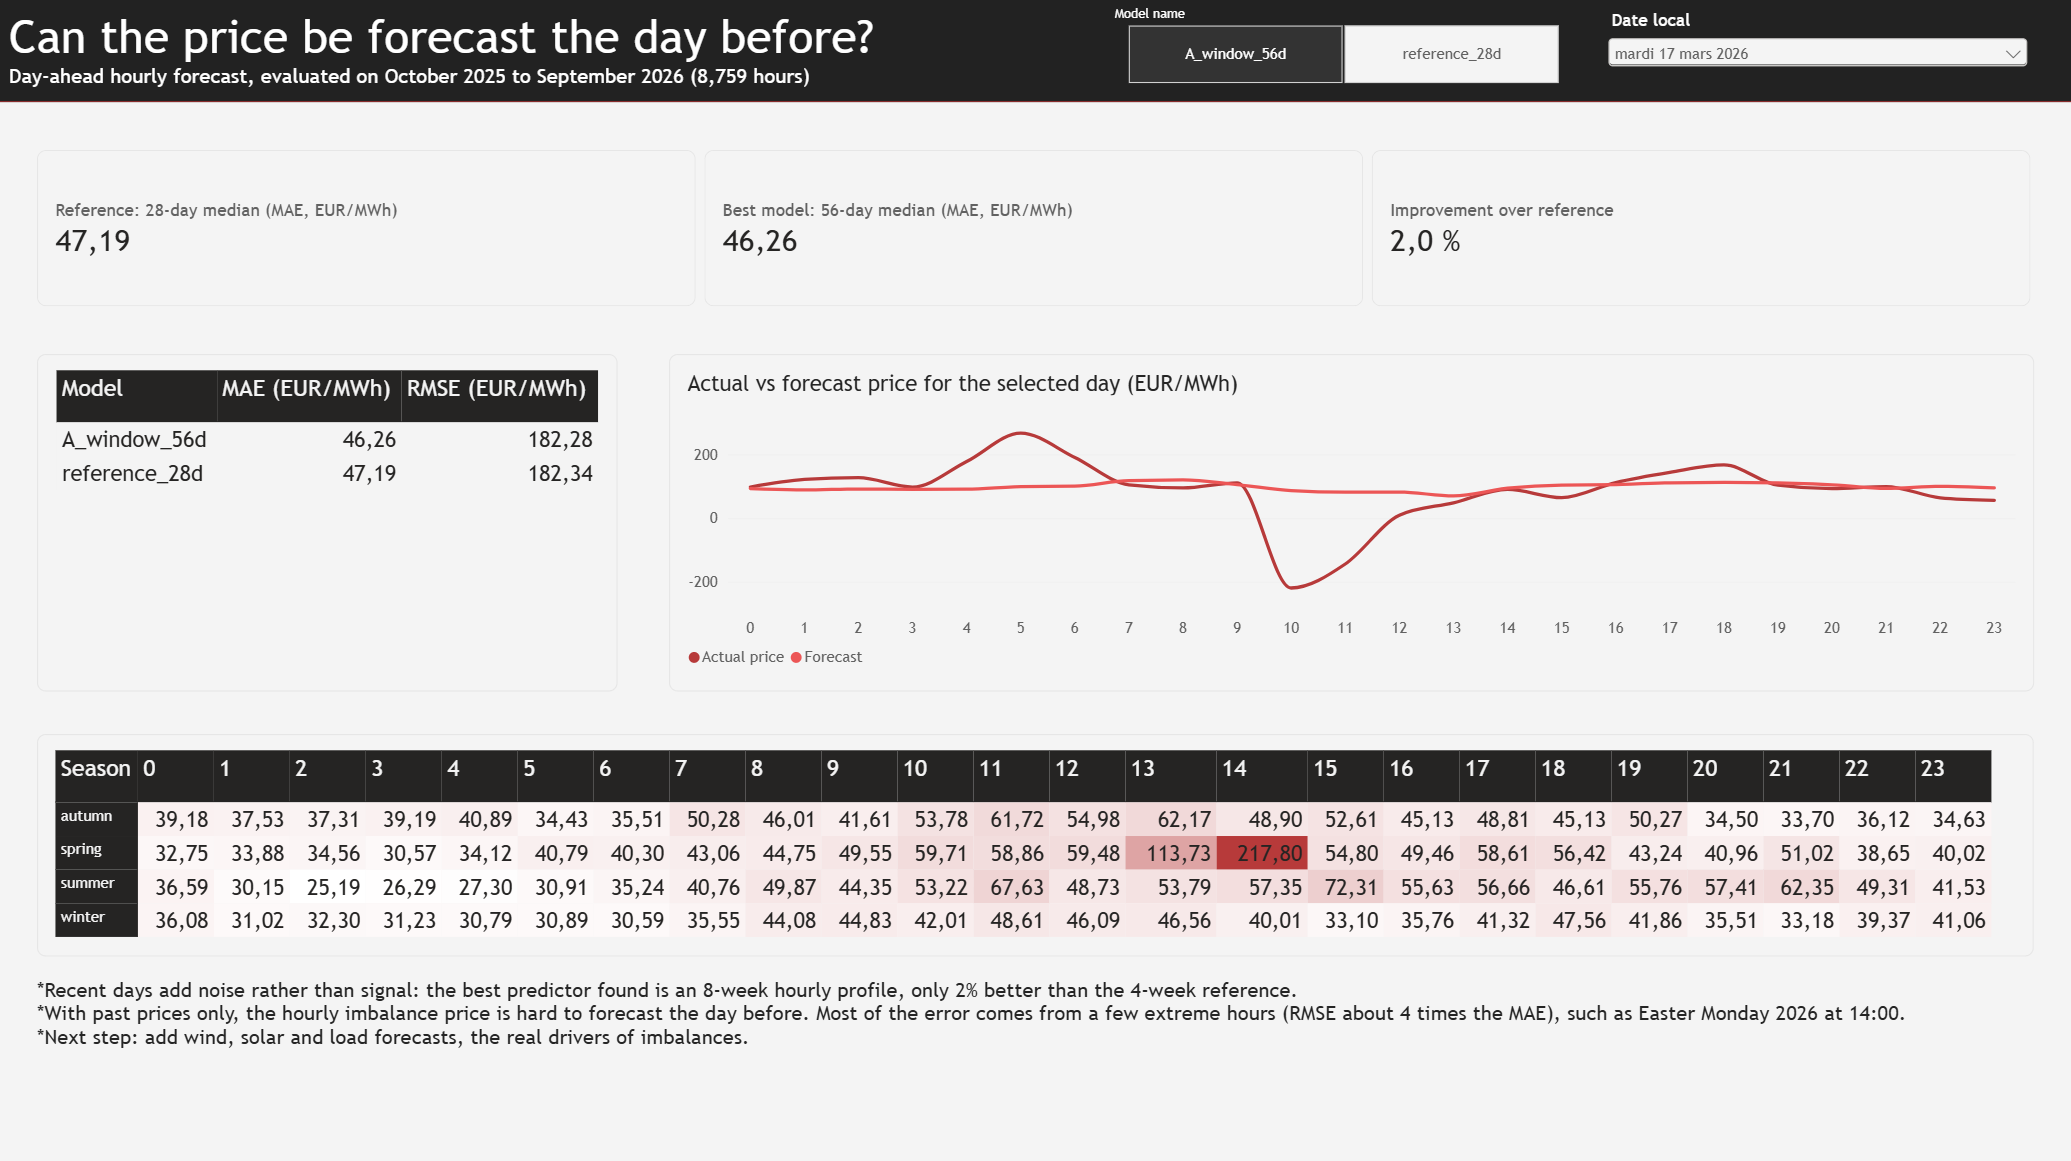

The page's visual inventory and layout, read from the dashboard file:
{"tool":"powerbi","page":{"name":"Forecast","canvas":[1920,1080],"ordinal":2},"visuals":[{"type":"shape","box":[0,0,1920,97.8],"z":0},{"type":"textbox","box":[12.8,12.8,1121.9,84.9],"z":1000},{"type":"cardVisual","fields":{"Data":["_measures.MAE Reference","_measures.MAE Best Model","_measures.Skill vs Reference"]},"box":[39.1,141.7,1839.9,144.2],"z":2000},{"type":"tableEx","title":"MAE vs RMSE","fields":{"Values":["model_summary.model_name","Sum(model_summary.mae_eur_mwh)","Sum(model_summary.rmse_eur_mwh)"]},"box":[39.1,329.9,535,311.3],"z":3000},{"type":"slicer","fields":{"Values":["backtest_results.model_name"]},"box":[1023.8,9.2,436.2,72.7],"z":4000},{"type":"slicer","fields":{"Values":["backtest_results.date_local"]},"box":[1481.9,13,396.2,91.2],"z":5000},{"type":"lineChart","title":"Actual vs forecast price for the selected day (EUR/MWh)","fields":{"Category":["backtest_results.hour_local"],"Y":["_measures.Avg Actual Price","_measures.Avg Forecast Price"]},"box":[620.7,329.9,1258.3,311.3],"z":6000},{"type":"pivotTable","fields":{"Columns":["error_by_hour_season.hour_local"],"Rows":["error_by_hour_season.season"],"Values":["Sum(error_by_hour_season.mae_eur_mwh)"]},"box":[39.1,680.4,1839.8,205],"z":7000},{"type":"textbox","box":[39.1,904.1,1839.8,173.4],"z":8000}]}

Visuals, with their boxes in screenshot pixels (x1, y1, x2, y2), scaled from the page's 1920x1080 canvas onto the 2071x1161 screenshot:
shape: bbox=[0, 0, 2070, 105]
textbox: bbox=[14, 14, 1224, 105]
cardVisual - _measures.MAE Reference x _measures.MAE Best Model: bbox=[42, 152, 2027, 307]
"MAE vs RMSE" tableEx: bbox=[42, 355, 619, 689]
slicer - backtest_results.model_name: bbox=[1104, 10, 1575, 88]
slicer - backtest_results.date_local: bbox=[1598, 14, 2026, 112]
"Actual vs forecast price for the selected day (EUR/MWh)" lineChart: bbox=[670, 355, 2027, 689]
pivotTable - error_by_hour_season.hour_local x error_by_hour_season.season: bbox=[42, 731, 2027, 952]
textbox: bbox=[42, 972, 2027, 1158]
